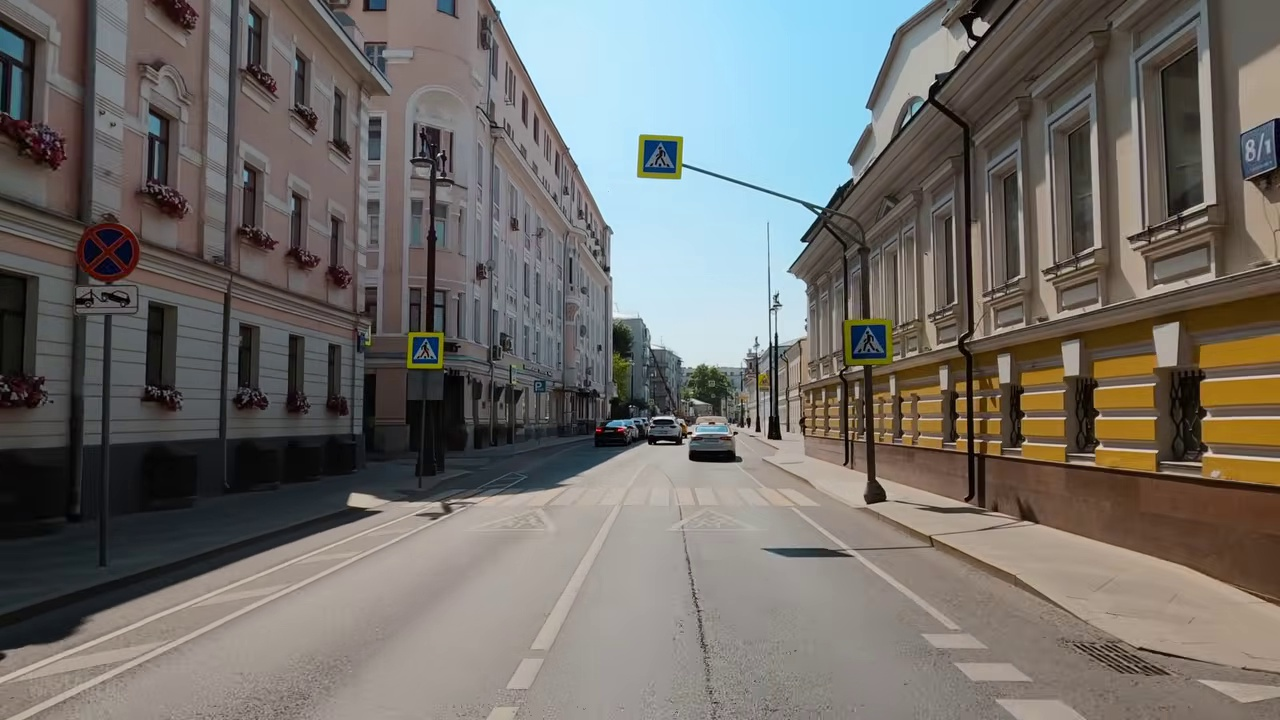apagada: (410, 136, 448, 181)
